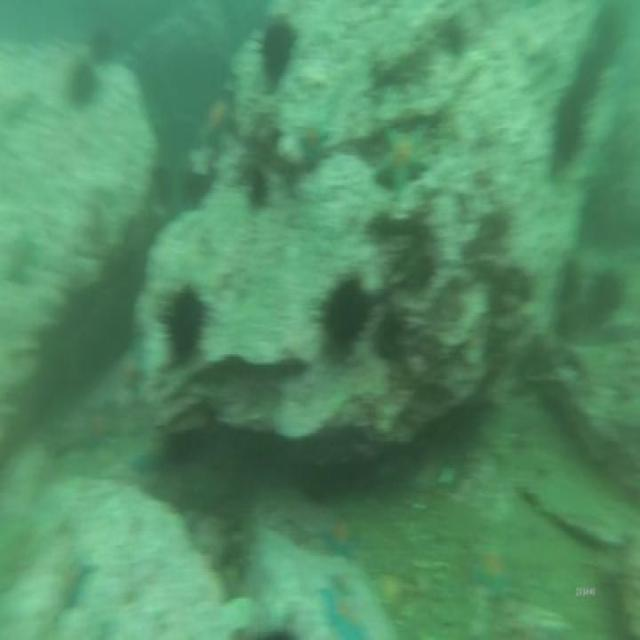echinus: (314, 266, 374, 360), (162, 283, 210, 367), (247, 15, 296, 86), (550, 85, 584, 163), (586, 262, 620, 318), (594, 4, 622, 62), (576, 48, 603, 104), (68, 64, 99, 110), (247, 156, 269, 207)
starfish: (376, 120, 432, 201), (312, 570, 371, 640), (471, 531, 524, 602), (50, 547, 100, 618), (292, 109, 334, 172), (317, 514, 363, 567), (76, 406, 116, 460), (202, 97, 234, 150), (120, 346, 148, 400), (129, 441, 163, 482)
